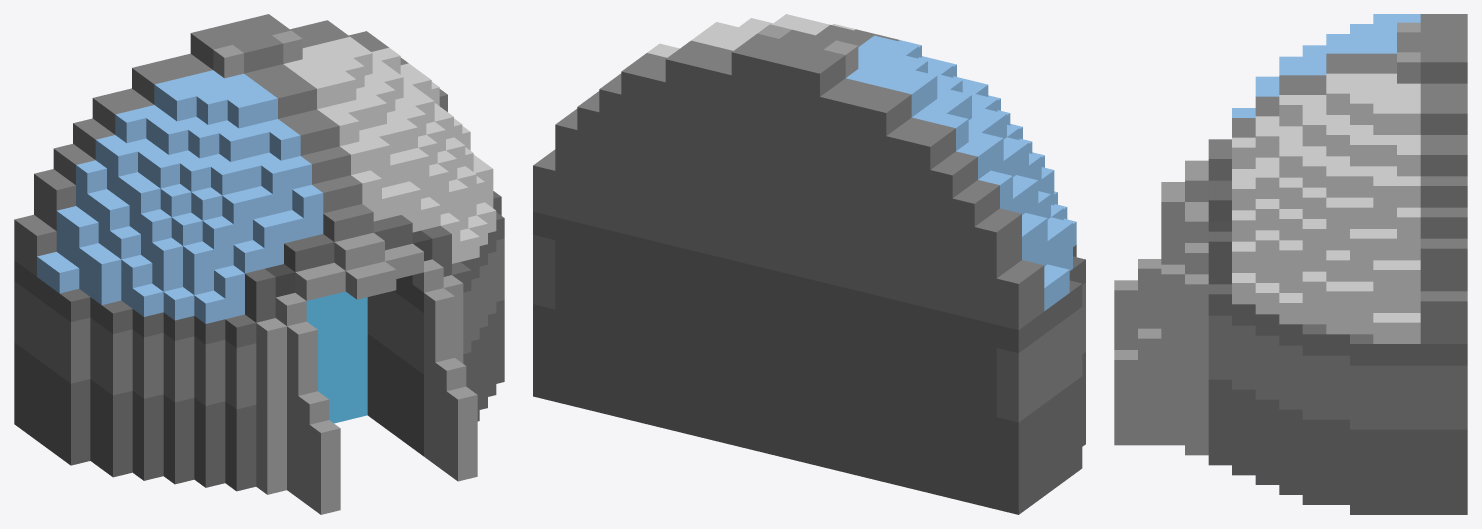
File: SPAWNER.obj
3 renders of one model, left to right at view 1: azimuth 30°, elevation 25°; view 2: azimuth 150°, elevation 25°; view 3: azimuth 270°, elevation 25°, orthographic. The views are drawn at different scales.
Bounding box in the file's own units: 22 × 17 × 15.
Materials: 1 (1 with a texture image).
